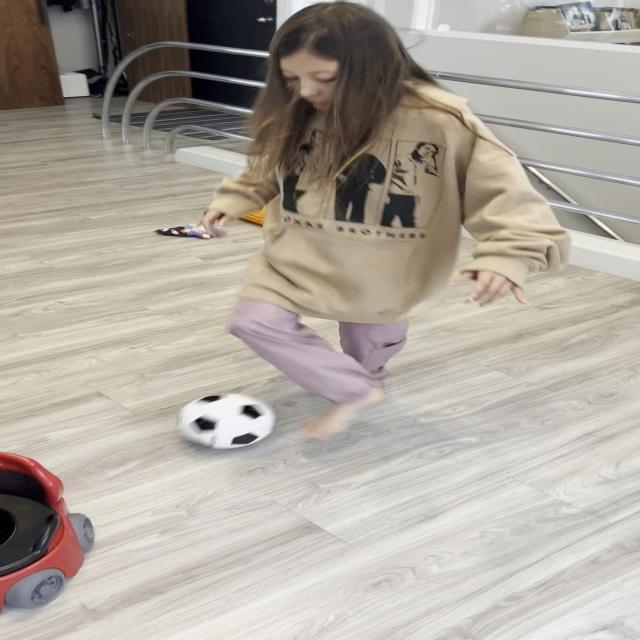Soccer Ball: (172, 390, 277, 452)
